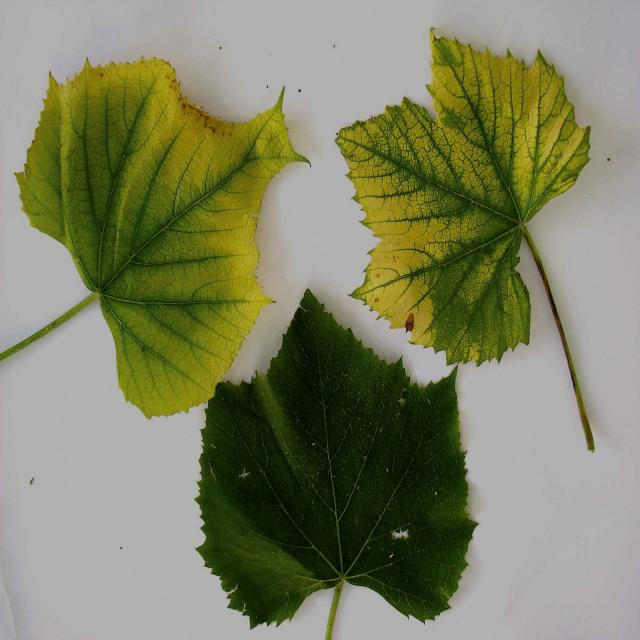Chlorosis: (8, 16, 615, 629)
